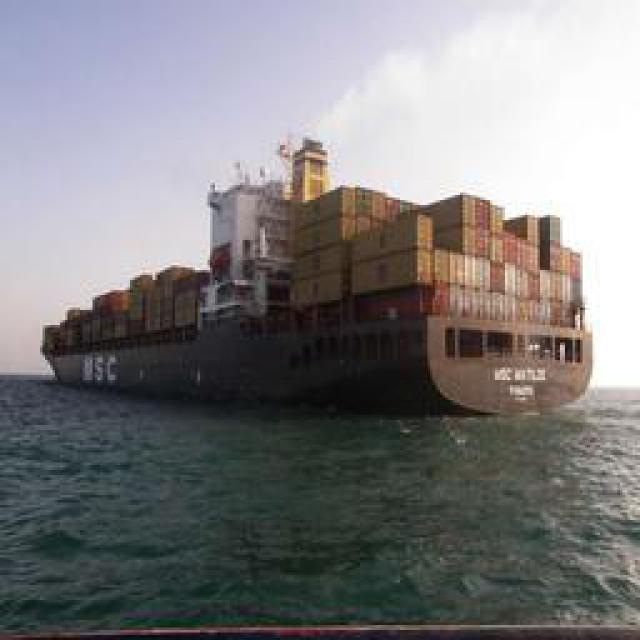Ship: (35, 135, 593, 415)
